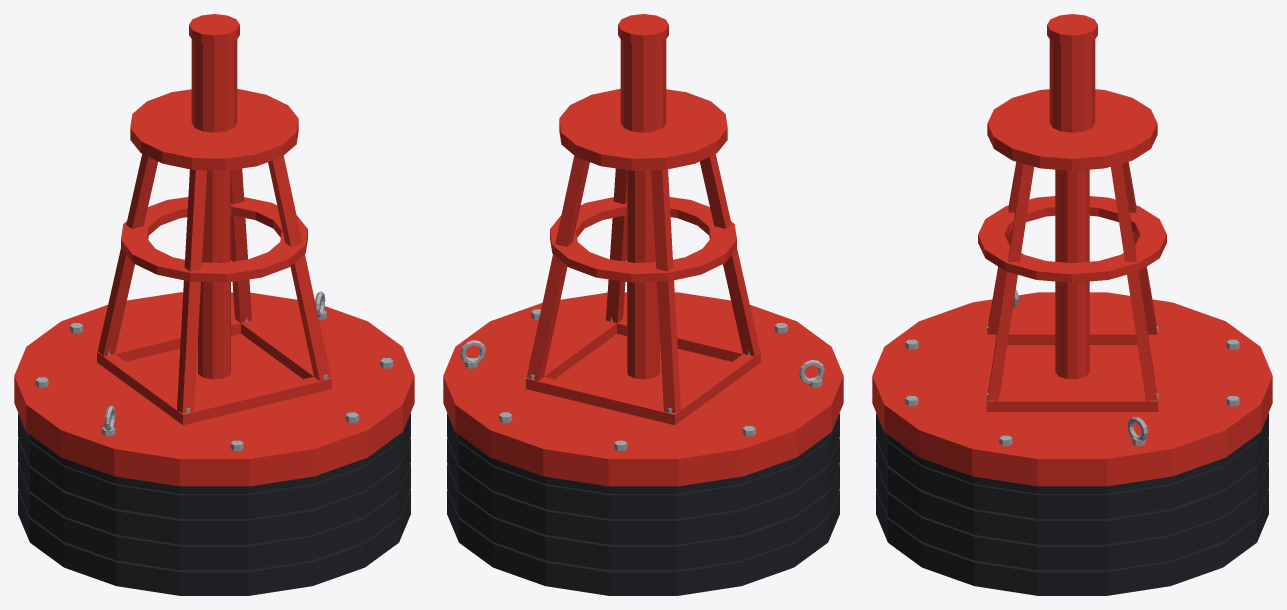
File: navigation buoy red.fbx
3 renders of one model, left to right at view 1: azimuth 30°, elevation 25°; view 2: azimuth 150°, elevation 25°; view 3: azimuth 270°, elevation 25°, orthographic.
Visible parts, largest first — view 1: Buoy_Red_Rubber_Tier_2; view 2: Buoy_Red_Rubber_Tier_2; view 3: Buoy_Red_Rubber_Tier_2.
Boxes of the visible parts, x1,y1,x2,y2 form: Buoy_Red_Rubber_Tier_2: (14, 14, 414, 595); Buoy_Red_Rubber_Tier_2: (443, 14, 843, 595); Buoy_Red_Rubber_Tier_2: (872, 14, 1272, 595).
Size of the model in its own units: 209 by 286 by 212.
